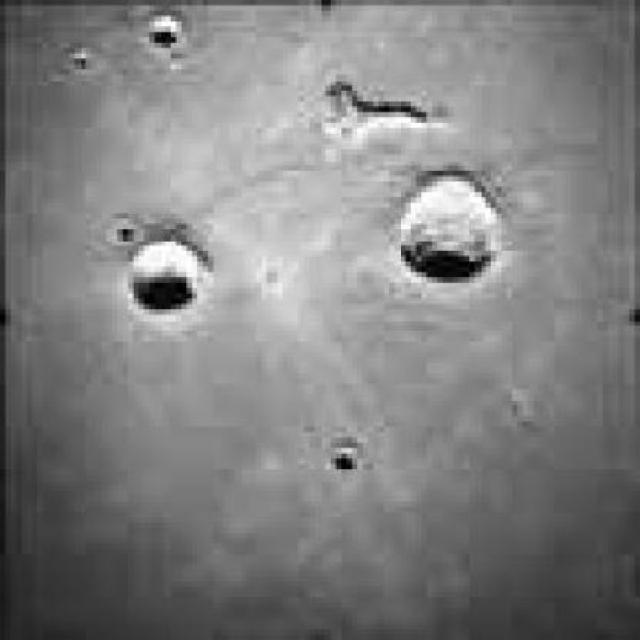crater: (394, 172, 508, 286), (125, 238, 208, 316), (143, 15, 180, 48), (328, 451, 364, 472)
